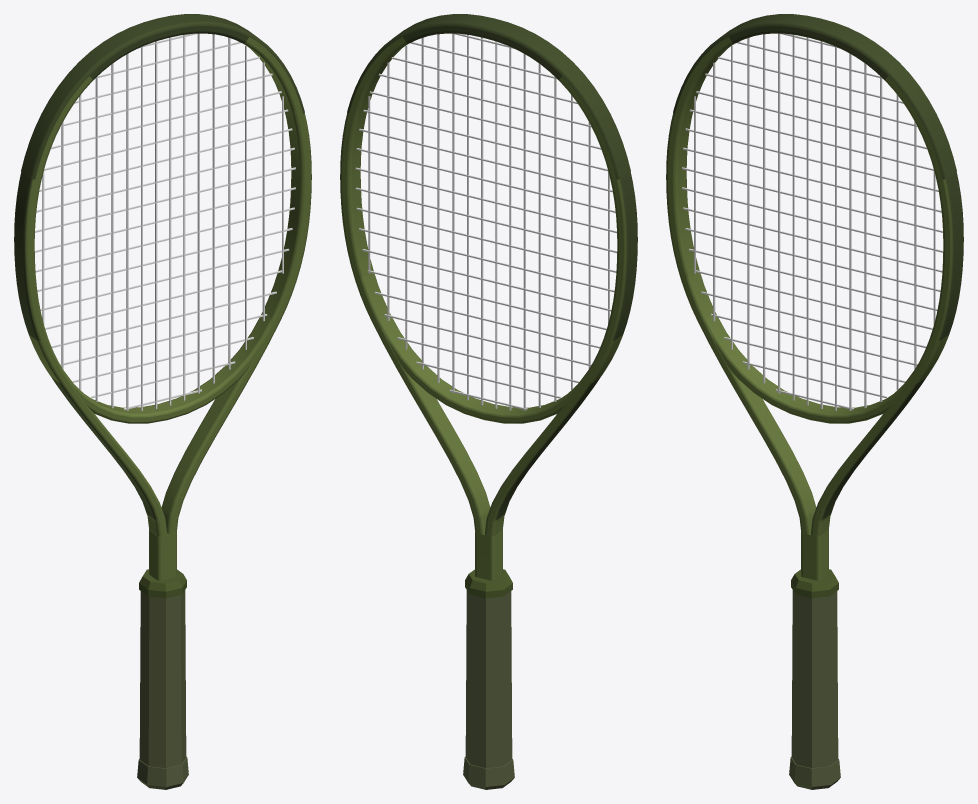
Rendered from prince-phantom-107g-2024.glb.
3 views of the same model, side by side, from view 1: azimuth 30°, elevation 25°; view 2: azimuth 150°, elevation 25°; view 3: azimuth 330°, elevation 25° (orthographic).
Visible parts, largest first — view 1: frame, strings_mains, strings_crosses, grip, bumper, butt_cap, collar; view 2: frame, strings_mains, strings_crosses, grip, bumper, butt_cap, collar; view 3: frame, strings_mains, strings_crosses, grip, bumper, butt_cap, collar.
Part boxes in pixels (bbox=[...]): frame: bbox=[14, 26, 311, 580]; strings_mains: bbox=[42, 33, 283, 410]; strings_crosses: bbox=[34, 33, 295, 410]; grip: bbox=[139, 590, 186, 768]; bumper: bbox=[21, 14, 304, 179]; butt_cap: bbox=[137, 756, 188, 789]; collar: bbox=[139, 569, 186, 598]; frame: bbox=[340, 26, 637, 580]; strings_mains: bbox=[368, 34, 609, 410]; strings_crosses: bbox=[355, 33, 617, 410]; grip: bbox=[465, 590, 512, 768]; bumper: bbox=[347, 14, 630, 179]; butt_cap: bbox=[463, 756, 514, 789]; collar: bbox=[465, 569, 512, 598]; frame: bbox=[666, 26, 963, 580]; strings_mains: bbox=[694, 33, 935, 410]; strings_crosses: bbox=[682, 33, 943, 410]; grip: bbox=[791, 590, 838, 768]; bumper: bbox=[673, 14, 956, 179]; butt_cap: bbox=[789, 756, 840, 789]; collar: bbox=[791, 569, 838, 598].
Size of the model in its own units: 0.2732 by 0.6861 by 0.0396.
